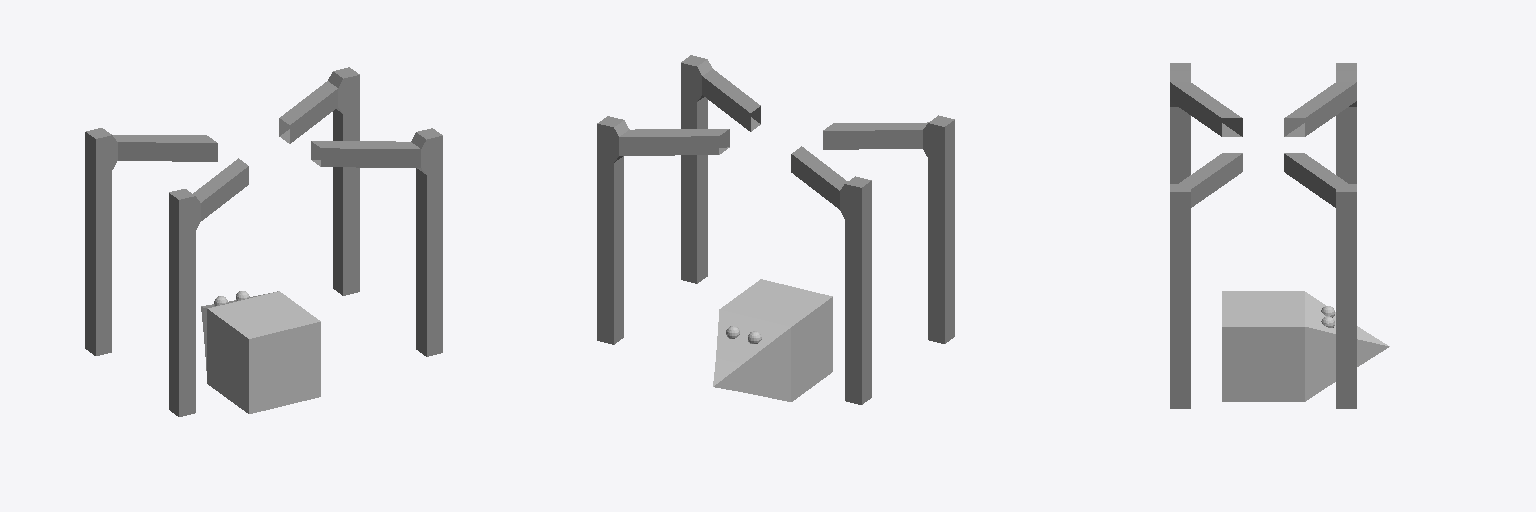
The model's file is generic_object_longlegs2.obj.
3 views of the same model, side by side, from view 1: azimuth 30°, elevation 25°; view 2: azimuth 150°, elevation 25°; view 3: azimuth 270°, elevation 25° (orthographic).
Parts seen in each view (by area): view 1: legs_Cube.004, Cube.003; view 2: legs_Cube.004, Cube.003, tip_Cube.002; view 3: legs_Cube.004, Cube.003, tip_Cube.002.
Boxes of the visible parts, x1,y1,x2,y2 form: legs_Cube.004: [85, 67, 442, 416]; Cube.003: [204, 291, 320, 413]; legs_Cube.004: [597, 55, 954, 404]; Cube.003: [716, 279, 832, 401]; tip_Cube.002: [713, 358, 742, 391]; legs_Cube.004: [1170, 63, 1356, 408]; Cube.003: [1222, 291, 1357, 401]; tip_Cube.002: [1358, 327, 1389, 366].
Size of the model in its own units: 7.33 by 6.81 by 5.29.